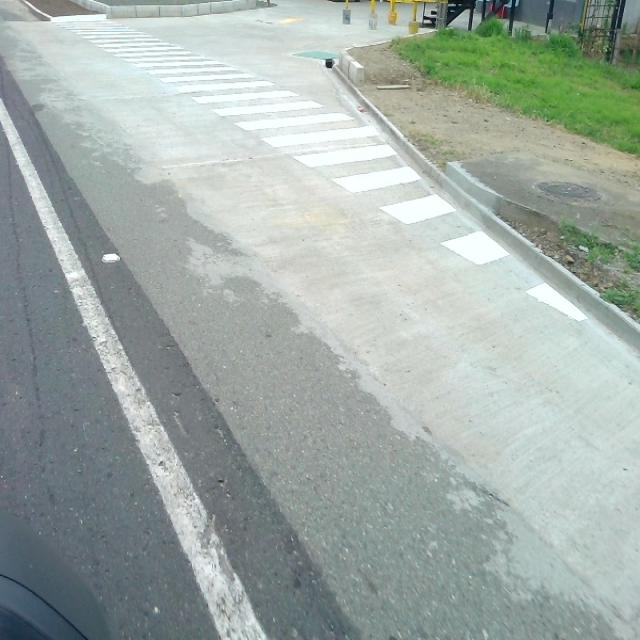DITCH: (1, 9, 638, 638), (1, 37, 638, 637)
